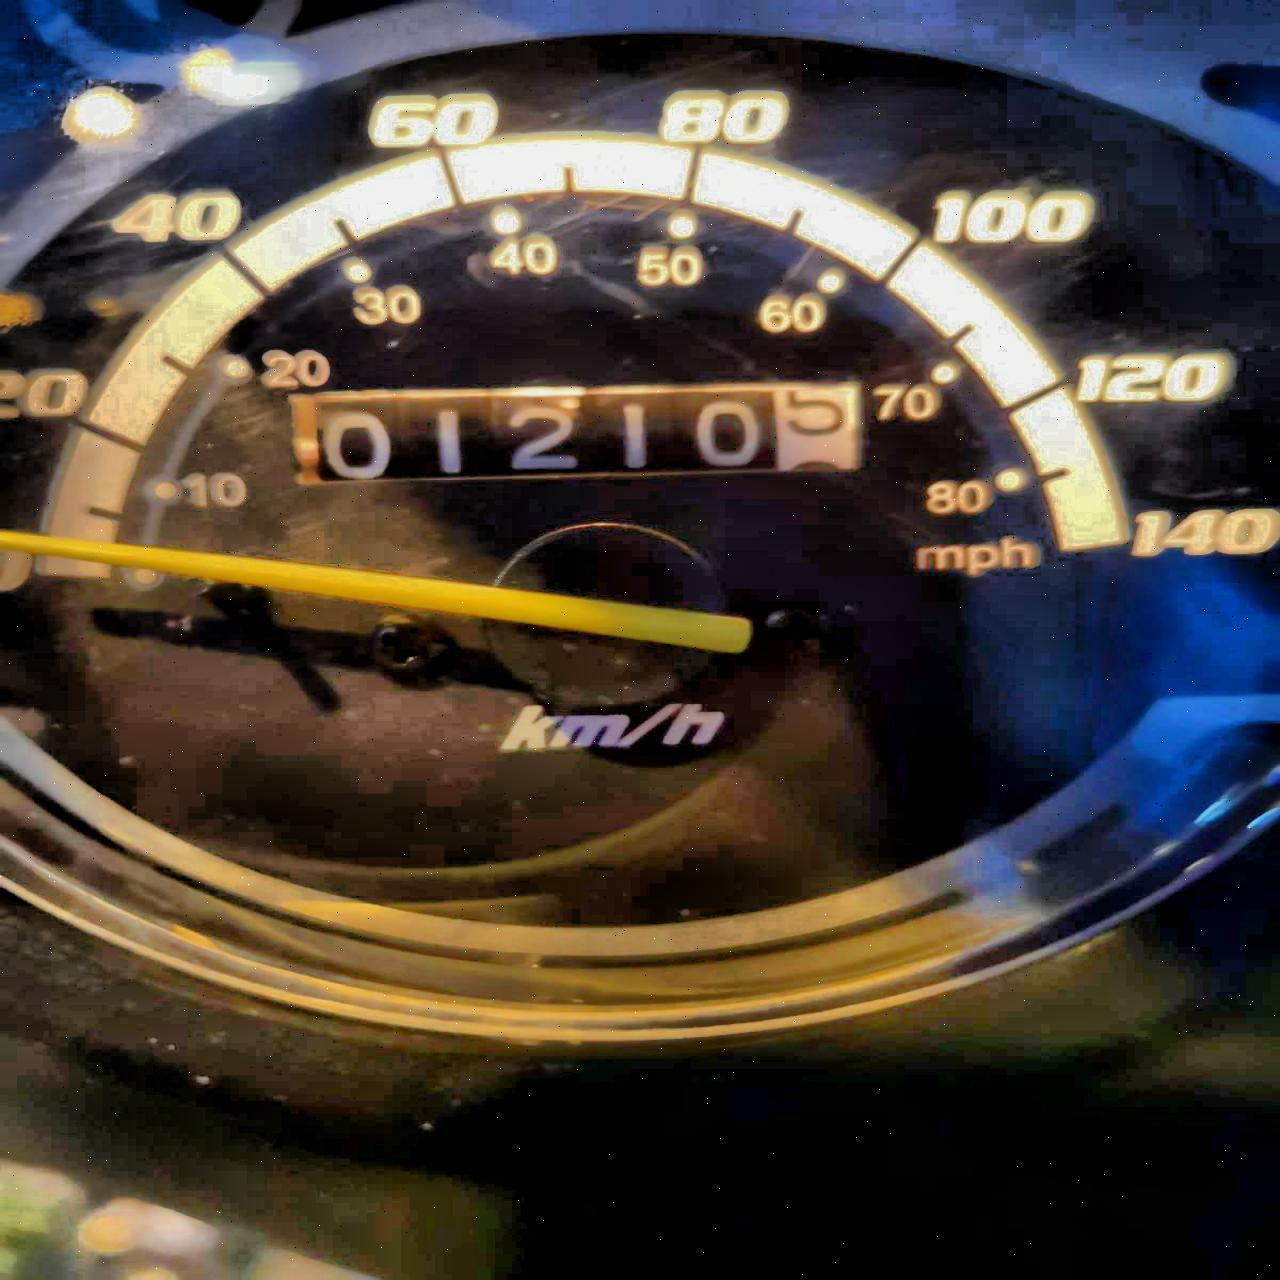0: (690, 395, 775, 474), (318, 407, 406, 481)
1: (414, 397, 481, 478), (610, 395, 669, 476)
2: (506, 404, 583, 476)
5: (787, 375, 852, 444)
odometer: (279, 382, 873, 488)
